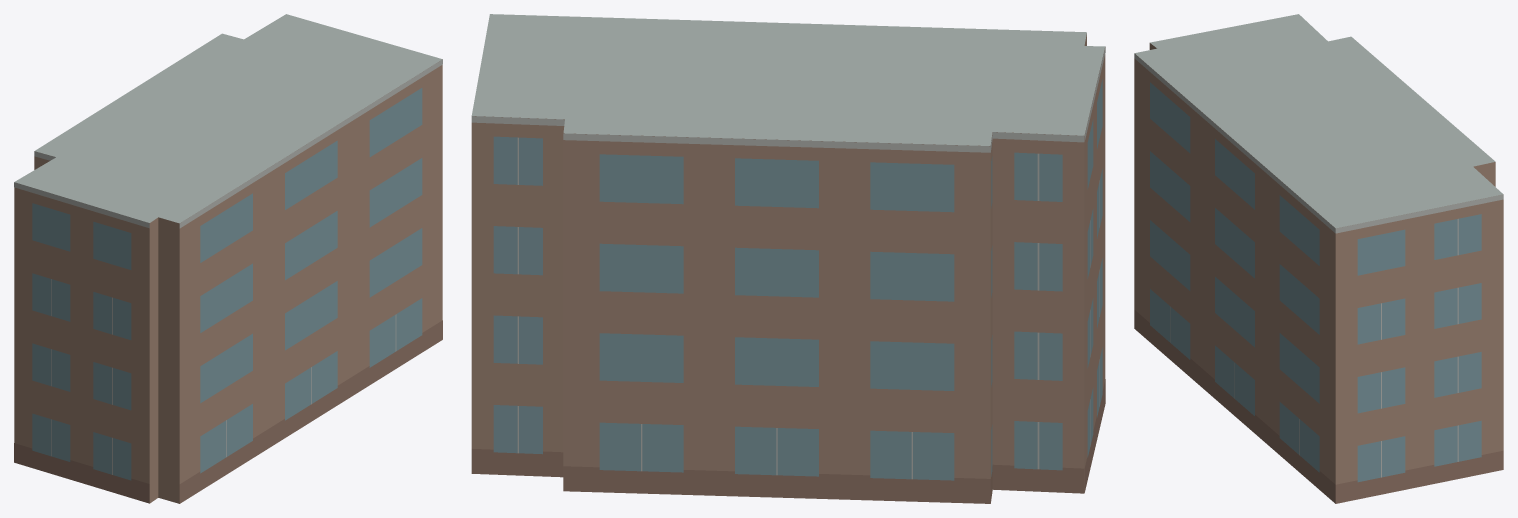
The model's file is survey-upis-32745063.glb.
3 renders of one model, left to right at view 1: azimuth 30°, elevation 25°; view 2: azimuth 150°, elevation 25°; view 3: azimuth 270°, elevation 25°, orthographic. The views are drawn at different scales.
Visible parts, largest first — view 1: survey-upis-32745063.tmp; view 2: survey-upis-32745063.tmp; view 3: survey-upis-32745063.tmp.
Part boxes in pixels (<box>): survey-upis-32745063.tmp: <box>14,14,442,503</box>; survey-upis-32745063.tmp: <box>471,14,1105,503</box>; survey-upis-32745063.tmp: <box>1134,14,1503,503</box>.
Bounding box in the file's own units: 21.79 × 13.05 × 15.86.
